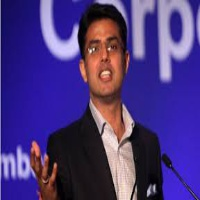ring: (42, 153, 49, 186)
